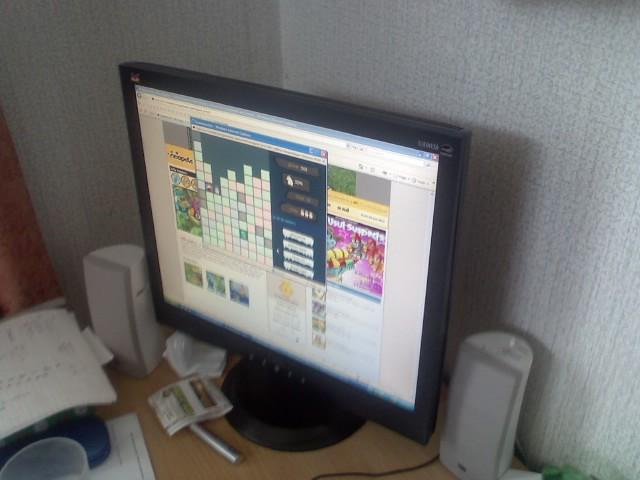computer: (118, 60, 472, 453)
